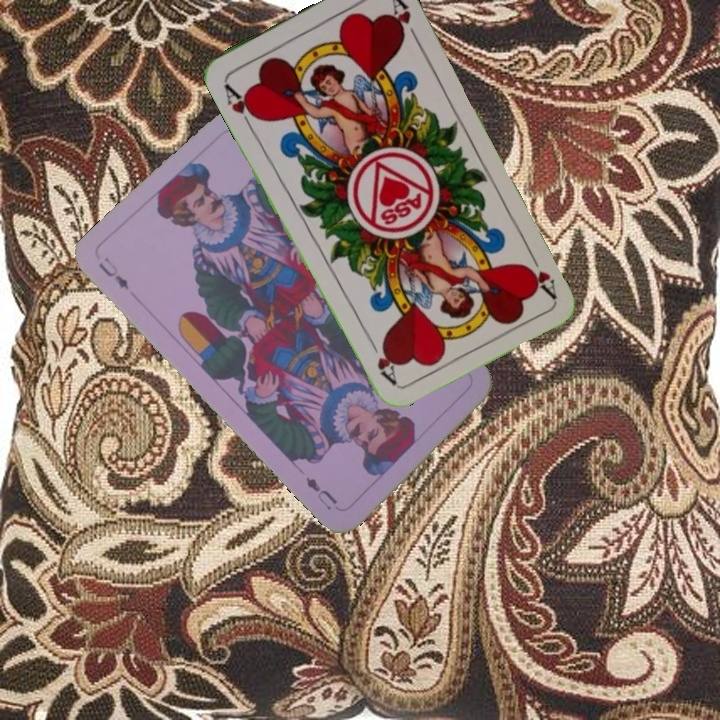EU: (94, 252, 132, 293)
HA: (518, 245, 559, 301), (220, 79, 262, 132)
